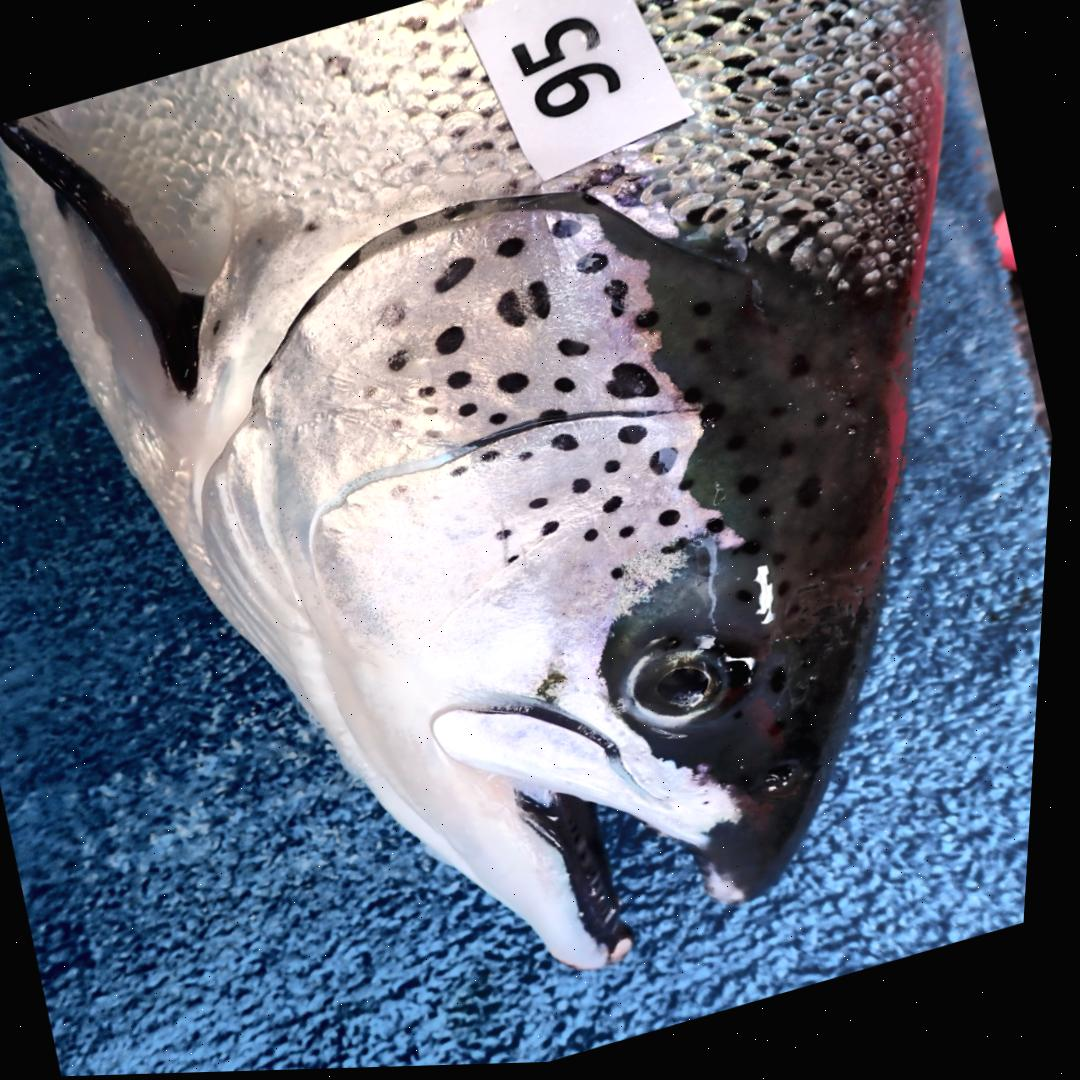spot: (610, 366, 664, 402), (438, 258, 479, 296), (500, 293, 530, 330), (606, 282, 633, 320), (654, 450, 685, 479), (532, 284, 554, 323), (440, 328, 469, 357), (502, 375, 535, 397), (580, 256, 612, 277), (554, 221, 584, 242), (384, 306, 409, 330), (562, 341, 593, 360), (624, 428, 653, 448), (500, 240, 528, 260), (446, 205, 477, 222), (557, 436, 585, 454), (639, 312, 663, 333), (667, 540, 696, 557), (342, 251, 365, 272), (392, 351, 412, 374), (452, 373, 476, 391), (559, 379, 581, 397), (665, 512, 687, 530), (609, 499, 630, 517), (712, 521, 733, 537), (545, 411, 572, 423), (578, 480, 597, 497), (547, 524, 567, 539), (401, 223, 420, 237), (495, 414, 513, 428), (464, 405, 482, 419), (423, 386, 441, 400), (610, 463, 628, 477), (486, 452, 506, 464), (685, 480, 701, 494), (535, 501, 555, 512), (625, 529, 642, 541), (397, 487, 414, 499), (501, 532, 519, 543), (457, 468, 474, 479), (369, 387, 382, 400), (591, 532, 605, 544), (618, 570, 632, 582), (430, 432, 448, 440), (525, 454, 539, 464), (429, 408, 444, 417), (396, 421, 409, 430), (515, 558, 527, 566)
